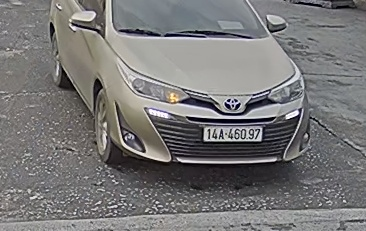vehicle plate: (202, 121, 265, 143)
